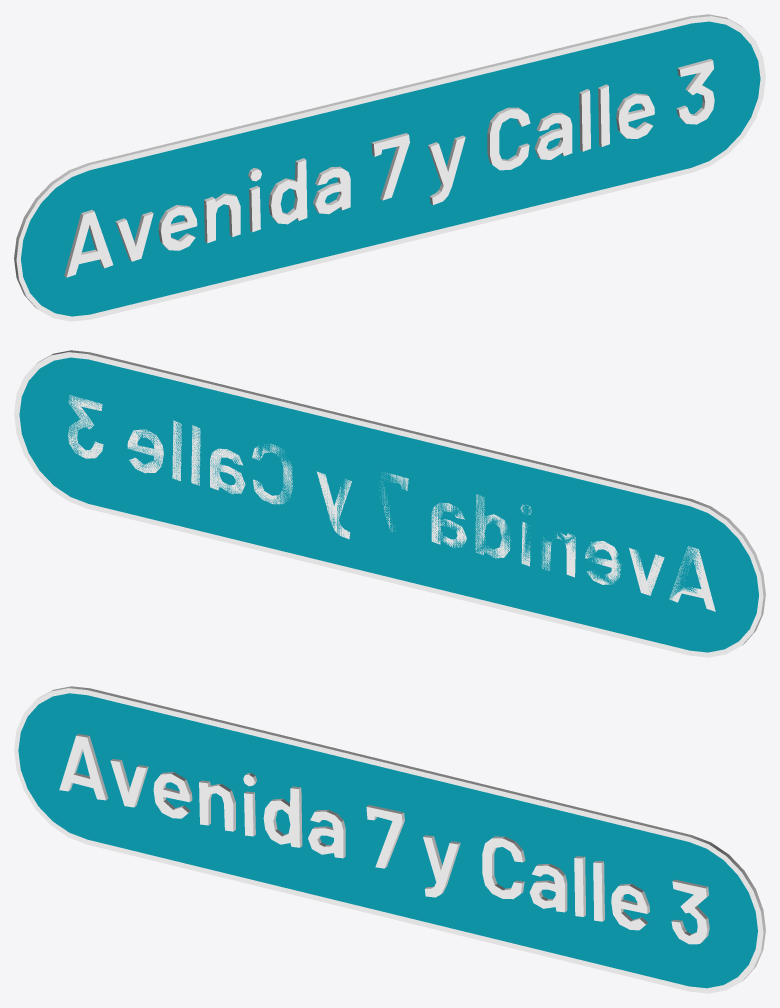
The model's file is avenida7calle3.obj.
3 views of the same model, one above another, from view 1: azimuth 30°, elevation 25°; view 2: azimuth 150°, elevation 25°; view 3: azimuth 330°, elevation 25° (orthographic).
Parts seen in each view (by area): view 1: Entorno_65_Entorno_1__24238_, Texto_de_modelo_Texto_de_modelo_10__24226_, Entorno_66_Entorno_1__24250_; view 2: Entorno_65_Entorno_1__24238_, Texto_de_modelo_Texto_de_modelo_10__24226_, Entorno_66_Entorno_1__24250_; view 3: Entorno_65_Entorno_1__24238_, Texto_de_modelo_Texto_de_modelo_10__24226_, Entorno_66_Entorno_1__24250_.
Boxes of the visible parts, x1=… form: Entorno_65_Entorno_1__24238_: x1=21, y1=21, x2=760, y2=316; Texto_de_modelo_Texto_de_modelo_10__24226_: x1=64, y1=59, x2=714, y2=277; Entorno_66_Entorno_1__24250_: x1=14, y1=14, x2=765, y2=321; Entorno_65_Entorno_1__24238_: x1=19, y1=357, x2=758, y2=652; Texto_de_modelo_Texto_de_modelo_10__24226_: x1=68, y1=395, x2=715, y2=611; Entorno_66_Entorno_1__24250_: x1=14, y1=350, x2=765, y2=657; Entorno_65_Entorno_1__24238_: x1=18, y1=693, x2=757, y2=988; Texto_de_modelo_Texto_de_modelo_10__24226_: x1=59, y1=734, x2=709, y2=944; Entorno_66_Entorno_1__24250_: x1=14, y1=686, x2=765, y2=993.
Size of the model in its own units: 52.69 by 10.39 by 0.6.
